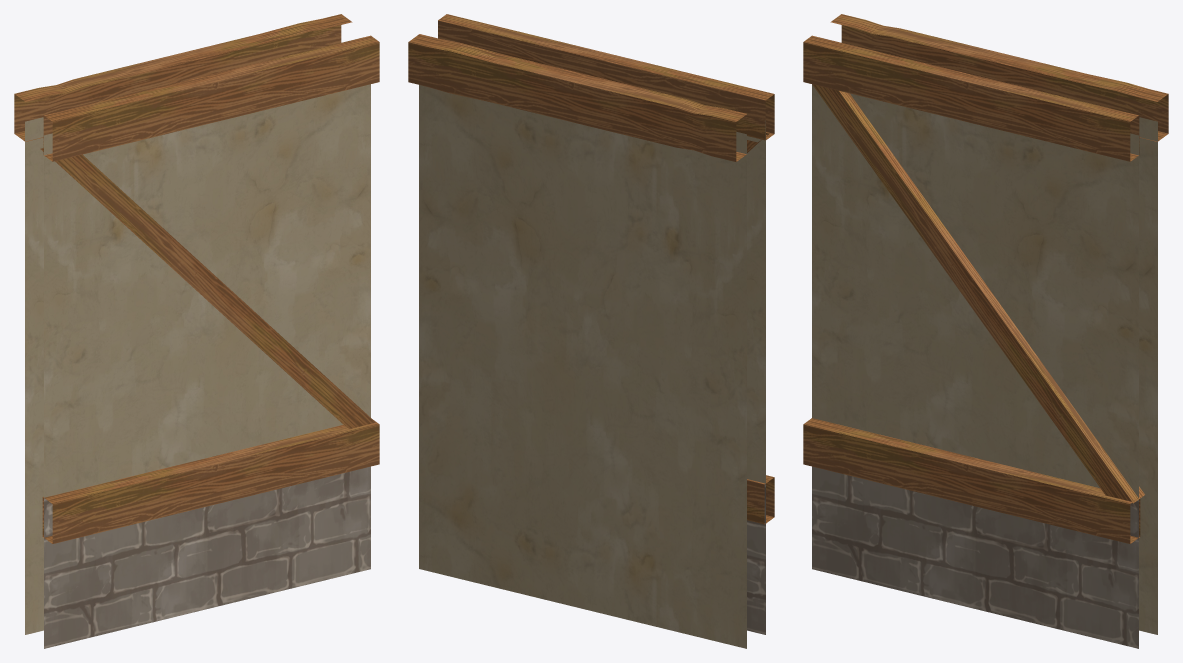
Rendered from Wall_Plaster_Straight_L.gltf.
3 views of the same model, side by side, from view 1: azimuth 30°, elevation 25°; view 2: azimuth 150°, elevation 25°; view 3: azimuth 330°, elevation 25° (orthographic).
Visible parts, largest first — view 1: Wall_Plaster_Straight_L; view 2: Wall_Plaster_Straight_L; view 3: Wall_Plaster_Straight_L.
Boxes of the visible parts, x1=… form: Wall_Plaster_Straight_L: x1=14, y1=14, x2=379, y2=648; Wall_Plaster_Straight_L: x1=408, y1=14, x2=774, y2=648; Wall_Plaster_Straight_L: x1=803, y1=14, x2=1168, y2=648.
Bounding box in the file's own units: 2 × 3.12 × 0.4065.
3 materials, 3 textured.
